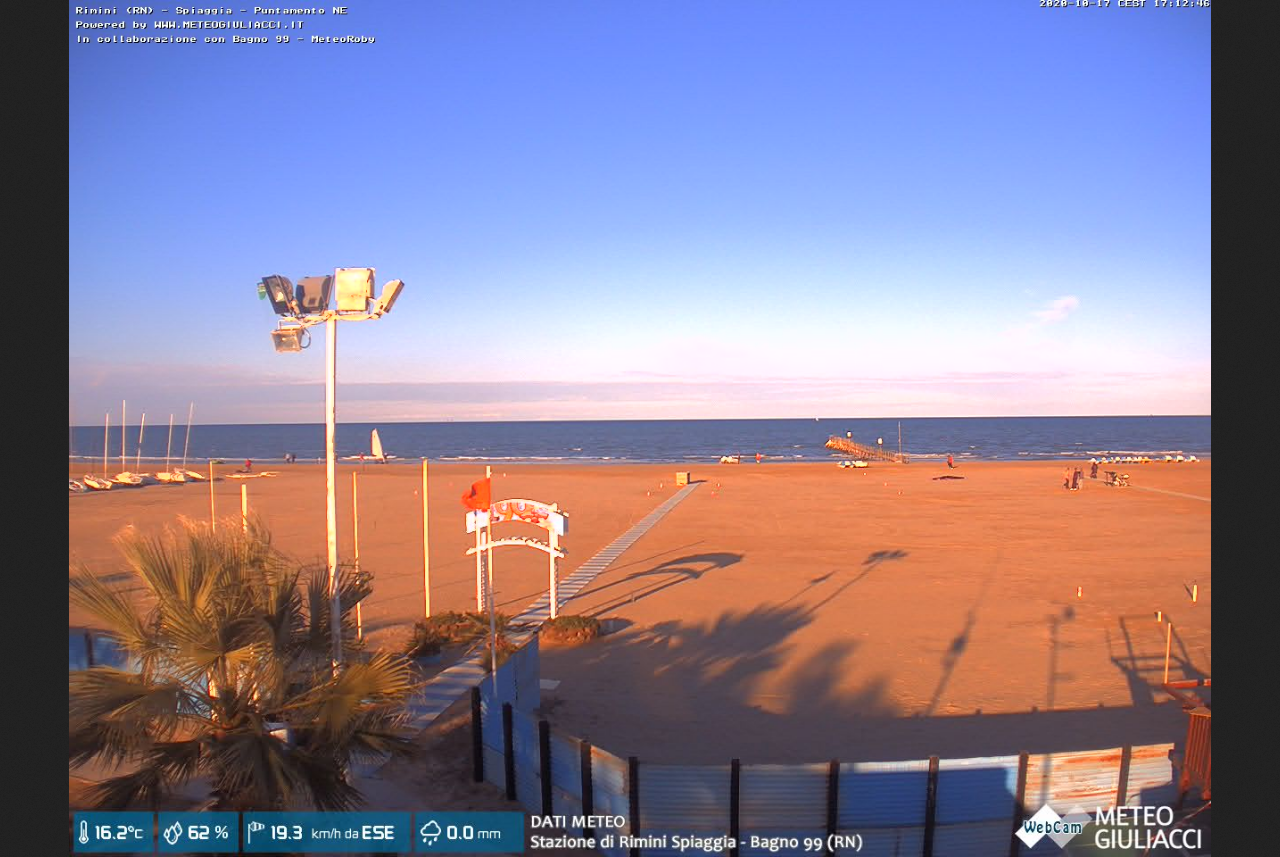yes: (461, 475, 496, 513)
